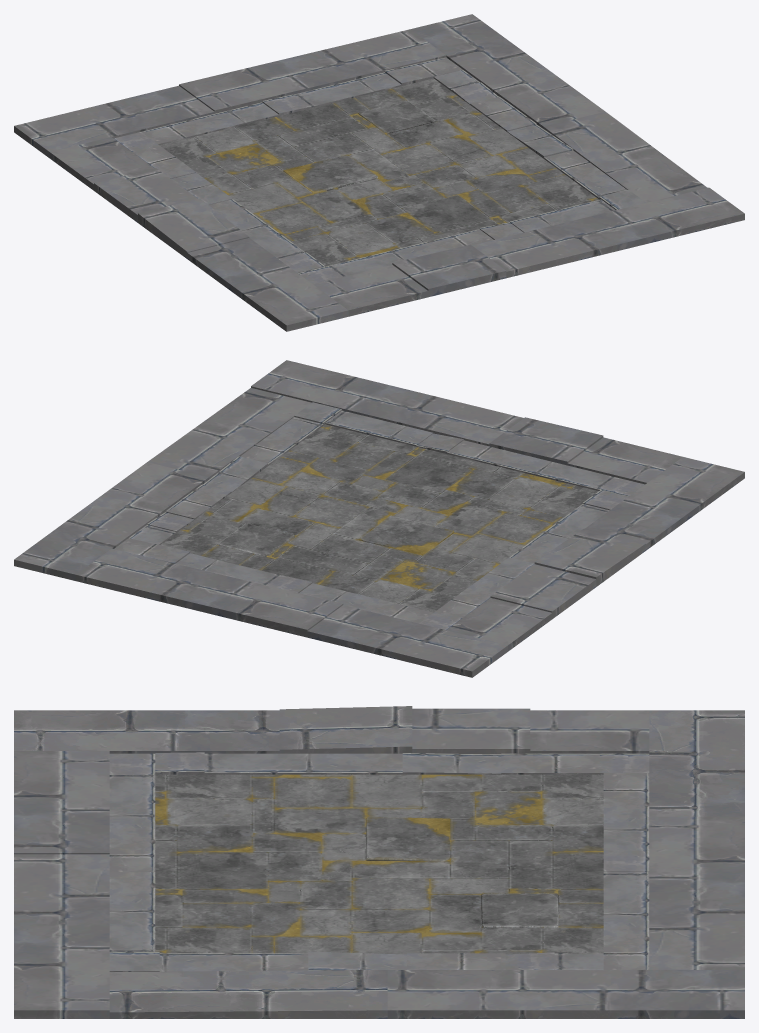
Rendered from SM_Alt_Flo_03AM.fbx.
The picture shows the model from 3 angles, top to bottom: view 1: azimuth 30°, elevation 25°; view 2: azimuth 150°, elevation 25°; view 3: azimuth 270°, elevation 25°; orthographic projection. The views are drawn at different scales.
Parts seen in each view (by area): view 1: SM_Alt_Flo_03AM.mo; view 2: SM_Alt_Flo_03AM.mo; view 3: SM_Alt_Flo_03AM.mo.
Part boxes in pixels (box(x1,y1,x2,y2)): SM_Alt_Flo_03AM.mo: box(14, 14, 744, 331); SM_Alt_Flo_03AM.mo: box(14, 360, 744, 677); SM_Alt_Flo_03AM.mo: box(14, 706, 744, 1018).
Bounding box in the file's own units: 13.14 × 0.2672 × 13.53.
